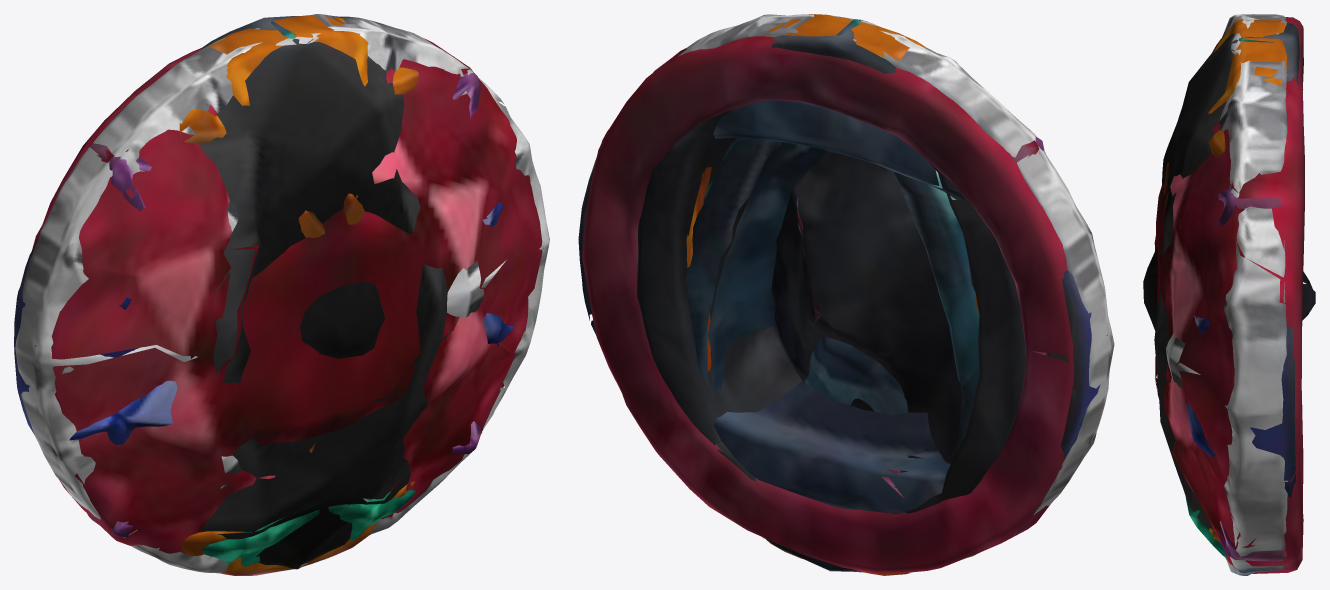
Rendered from skull_gems.glb.
3 renders of one model, left to right at view 1: azimuth 30°, elevation 25°; view 2: azimuth 150°, elevation 25°; view 3: azimuth 270°, elevation 25°, orthographic. The views are drawn at different scales.
Visible parts, largest first — view 1: skull_gems; view 2: skull_gems; view 3: skull_gems.
Part boxes in pixels (<box>): skull_gems: <box>14,14,549,575</box>; skull_gems: <box>578,14,1114,575</box>; skull_gems: <box>1143,14,1315,575</box>.
Bounding box in the file's own units: 1.97 × 1.97 × 0.5981.
Materials: 1 (1 with a texture image).
